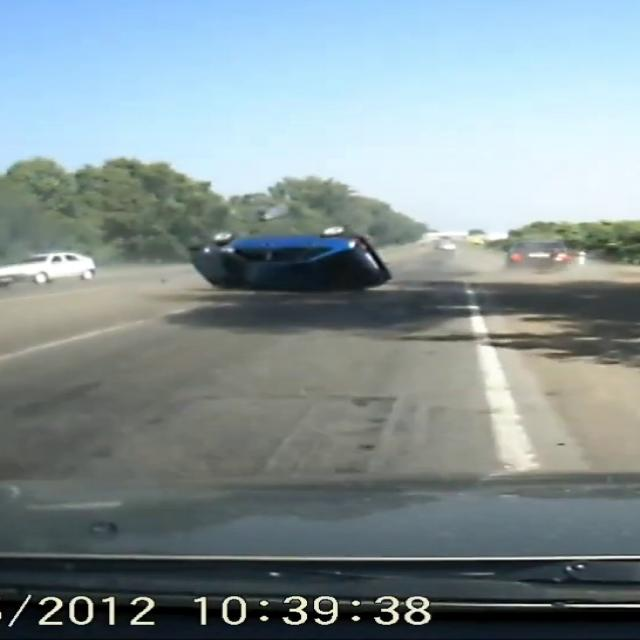accident: (136, 222, 411, 313)
